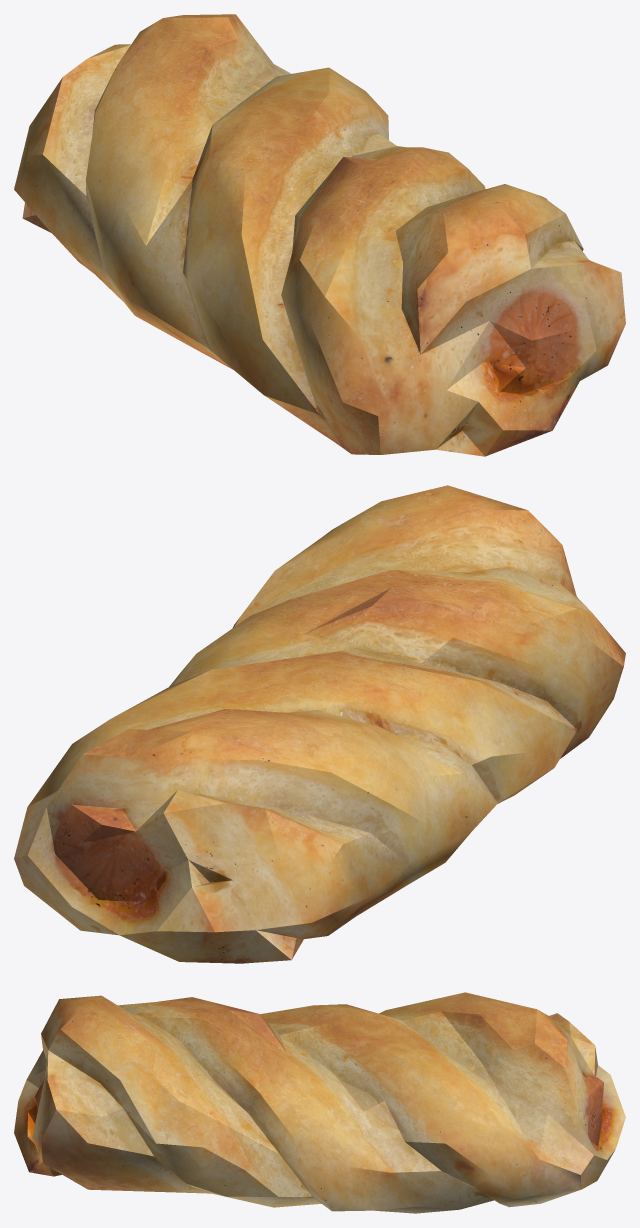
The model's file is 3DPastry002_LQ-1K-JPG.obj.
The picture shows the model from 3 angles, top to bottom: view 1: azimuth 30°, elevation 25°; view 2: azimuth 150°, elevation 25°; view 3: azimuth 270°, elevation 25°; orthographic projection. The views are drawn at different scales.
Parts seen in each view (by area): view 1: 3DPastry002_LQ-1K-JPG; view 2: 3DPastry002_LQ-1K-JPG; view 3: 3DPastry002_LQ-1K-JPG.
Boxes of the visible parts, x1,y1,x2,y2 form: 3DPastry002_LQ-1K-JPG: (14,14,625,456); 3DPastry002_LQ-1K-JPG: (14,485,625,963); 3DPastry002_LQ-1K-JPG: (14,992,625,1213).
Bounding box in the file's own units: 0.0858 × 0.0544 × 0.1758.
Materials: 1 (1 with a texture image).
